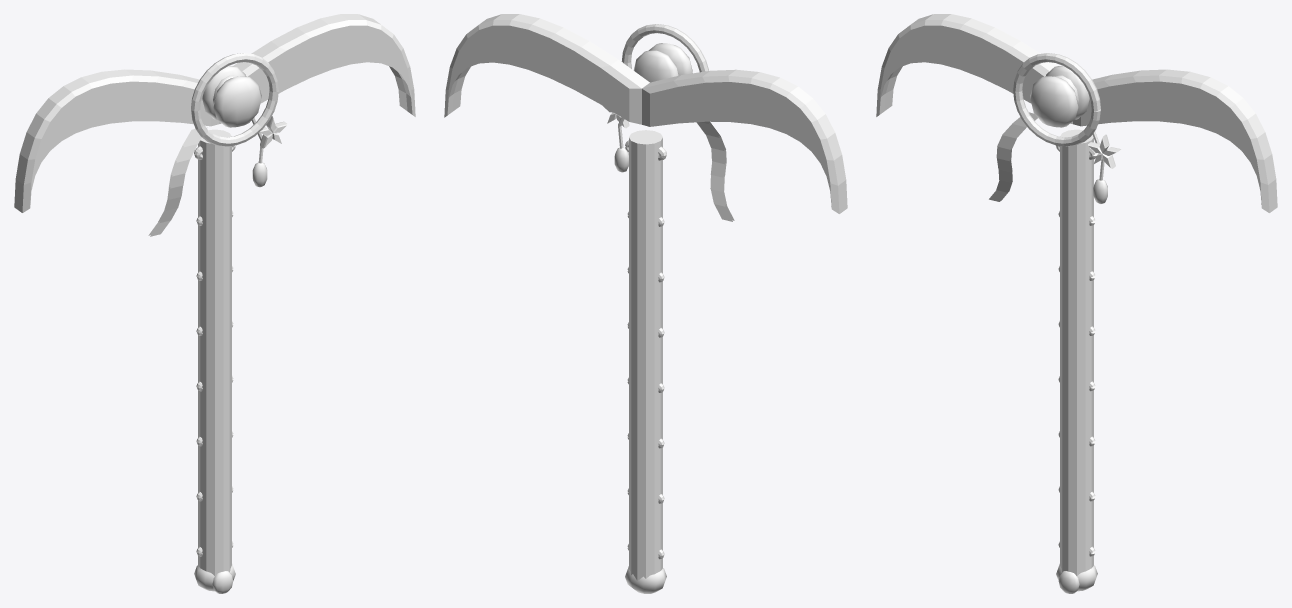
Rendered from pickaxe.obj.
3 renders of one model, left to right at view 1: azimuth 30°, elevation 25°; view 2: azimuth 150°, elevation 25°; view 3: azimuth 330°, elevation 25°, orthographic.
Bounding box in the file's own units: 0.6667 × 0.8904 × 0.1122.
